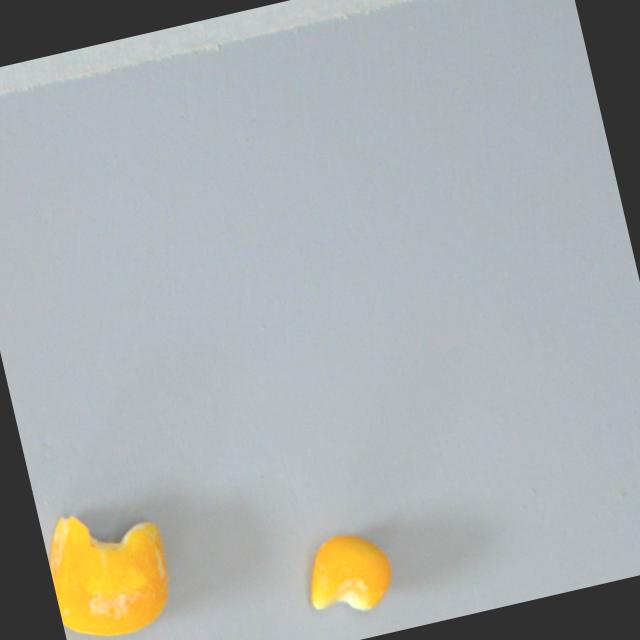dañado: (295, 520, 400, 625)
punto_negro: (37, 488, 185, 640)
